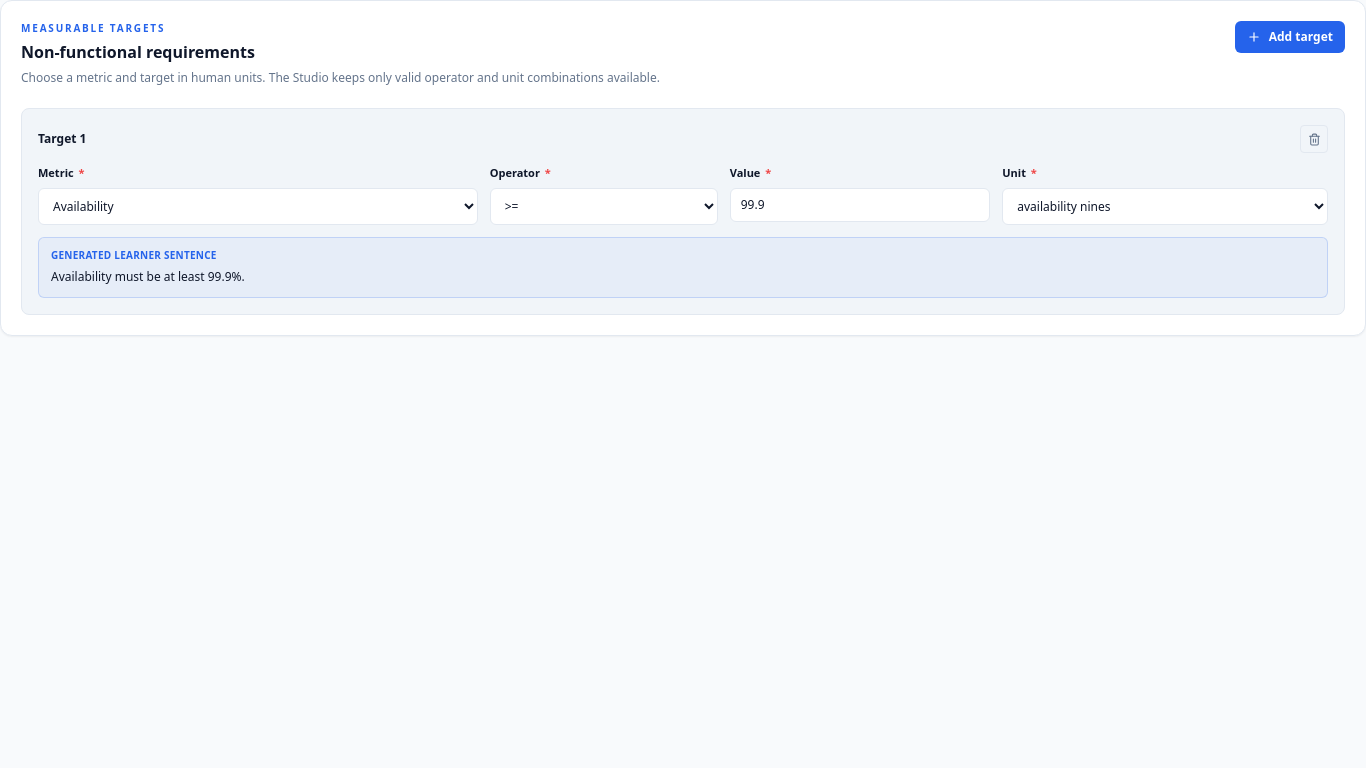
NonFunctionalRequirementsEditor › converts an availability target when the author switches display units
Select "availability nines" in the dropdown labelled "Unit *" at [1165, 206], box [1002,188,1328,224]
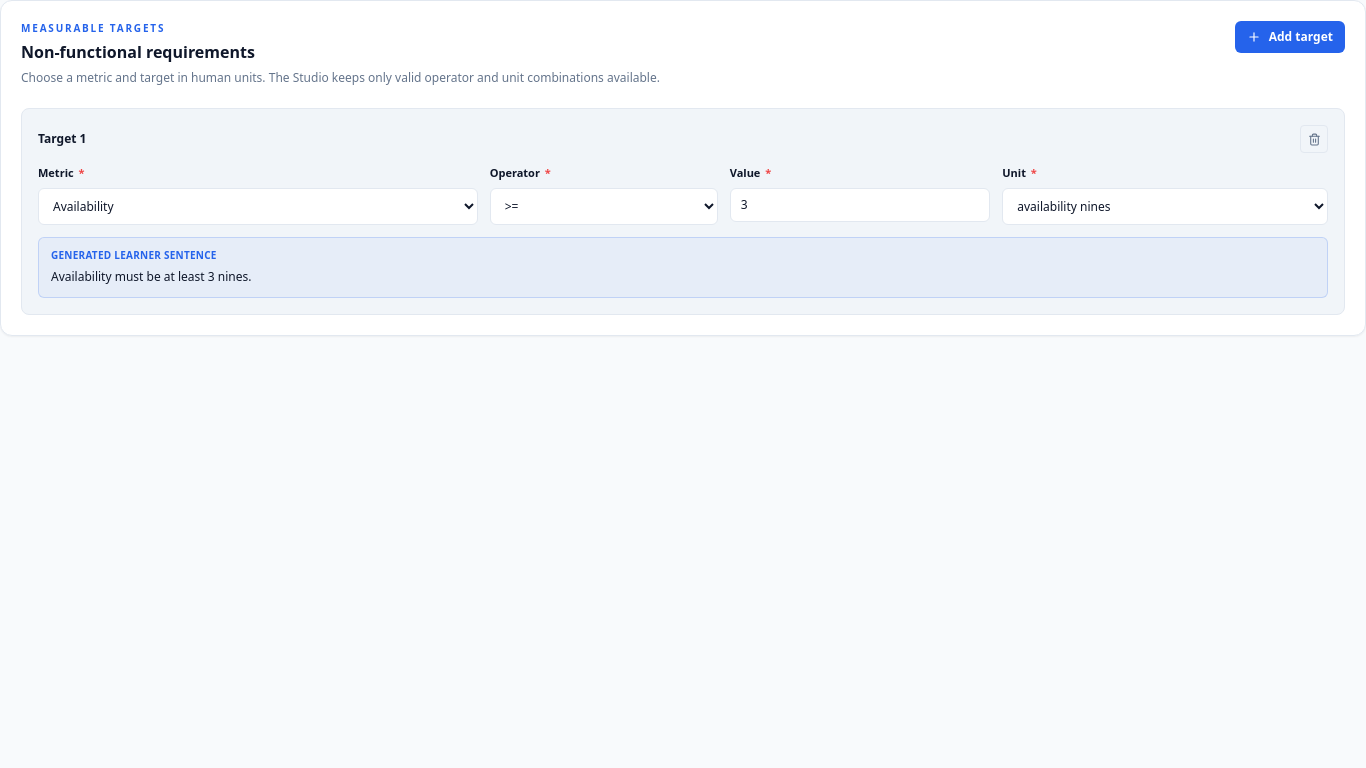
Expected: the number field labelled "Value *" holds "3", [730,188,990,222]
Expected: the text "Availability must be at least 3 nines." is shown, [51,268,251,284]
